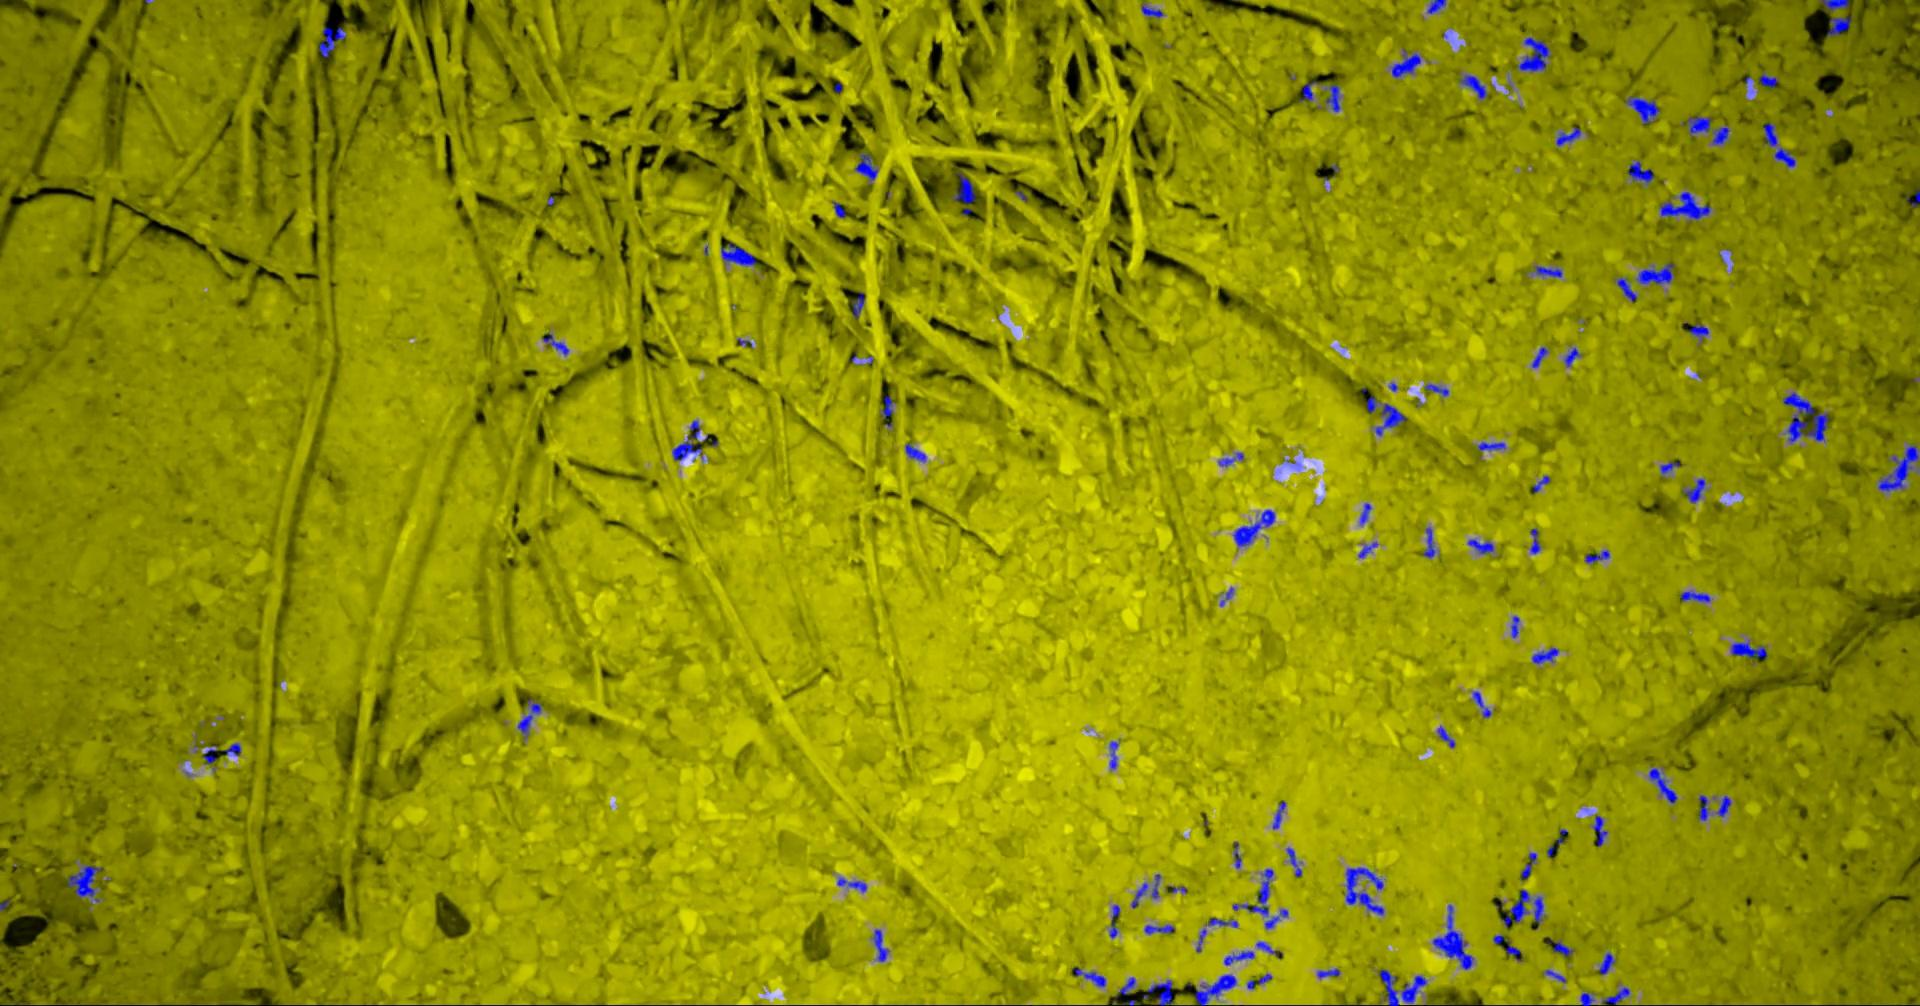ant: (1232, 868, 1288, 929), (1432, 904, 1473, 969), (1782, 392, 1829, 443), (1877, 443, 1919, 492), (1343, 868, 1383, 915), (1501, 889, 1545, 929), (1378, 969, 1426, 1005), (1232, 509, 1274, 546), (1763, 122, 1796, 166), (1658, 191, 1710, 218), (1681, 114, 1730, 144), (1194, 974, 1236, 1005), (67, 865, 102, 901), (1516, 36, 1549, 71), (672, 420, 701, 460), (1648, 767, 1677, 803), (1374, 403, 1406, 434), (317, 22, 345, 57), (1624, 95, 1658, 123), (1390, 47, 1420, 77), (517, 699, 541, 735), (1636, 263, 1674, 285), (1492, 934, 1521, 962), (720, 243, 756, 265), (1142, 979, 1172, 1005), (951, 171, 975, 203), (855, 152, 877, 184), (1730, 641, 1768, 659), (1459, 74, 1487, 98), (1627, 160, 1653, 183), (1073, 967, 1105, 986), (1545, 828, 1566, 857), (1681, 478, 1705, 502), (541, 333, 568, 354), (1601, 986, 1629, 1005), (872, 929, 888, 962), (1615, 277, 1636, 301), (1472, 691, 1491, 716), (1223, 950, 1255, 965), (1592, 815, 1608, 846), (1520, 852, 1537, 880), (1255, 941, 1283, 958), (1827, 17, 1851, 36), (1548, 939, 1573, 956), (1286, 847, 1302, 876), (837, 876, 866, 892), (1531, 647, 1558, 663), (1115, 976, 1135, 997), (1556, 127, 1580, 145), (1324, 83, 1340, 111), (1131, 882, 1147, 907), (1246, 973, 1271, 988), (1597, 951, 1614, 974), (1467, 539, 1493, 553), (1679, 589, 1710, 601), (1299, 80, 1316, 102), (1437, 725, 1454, 747), (1218, 452, 1243, 466), (202, 746, 216, 771), (1272, 800, 1285, 828), (1423, 527, 1435, 558), (851, 291, 863, 318), (1689, 323, 1708, 340), (905, 443, 924, 461), (1563, 347, 1580, 367), (1109, 904, 1119, 937), (1531, 345, 1547, 367), (1583, 550, 1609, 563), (1534, 265, 1562, 277), (1531, 475, 1550, 492), (1357, 541, 1377, 558), (881, 395, 891, 426), (1716, 795, 1731, 815), (1144, 923, 1175, 934), (1423, 384, 1448, 396), (1142, 3, 1163, 17), (1818, 0, 1848, 10), (1208, 917, 1237, 927), (1757, 72, 1778, 86), (1477, 441, 1505, 451), (1658, 460, 1679, 474), (1359, 503, 1371, 525), (1698, 794, 1708, 821), (1150, 873, 1161, 898), (1544, 969, 1564, 982), (1109, 741, 1117, 768), (1530, 528, 1540, 553), (1426, 0, 1445, 13), (830, 201, 844, 217), (223, 742, 240, 754), (1317, 968, 1338, 977), (1510, 616, 1519, 636), (1580, 992, 1594, 1005), (1233, 841, 1239, 868), (1366, 395, 1377, 412)
